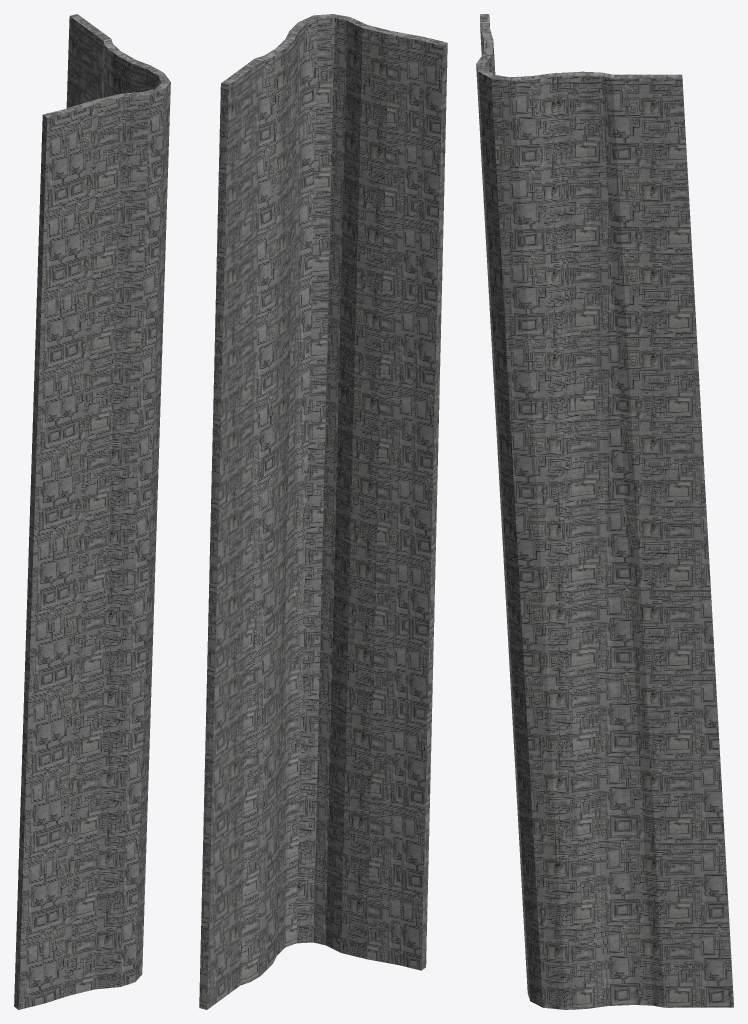
Rendered from Area2_Border.fbx.
3 views of the same model, side by side, from view 1: azimuth 30°, elevation 25°; view 2: azimuth 150°, elevation 25°; view 3: azimuth 270°, elevation 25° (orthographic). The views are drawn at different scales.
Parts seen in each view (by area): view 1: Area2_Border; view 2: Area2_Border; view 3: Area2_Border.
Boxes of the visible parts, x1=… form: Area2_Border: x1=14, y1=14, x2=170, y2=1009; Area2_Border: x1=199, y1=14, x2=447, y2=1009; Area2_Border: x1=476, y1=14, x2=733, y2=1009.
Size of the model in its own units: 869 by 5512 by 1383.
1 material, 1 textured.
